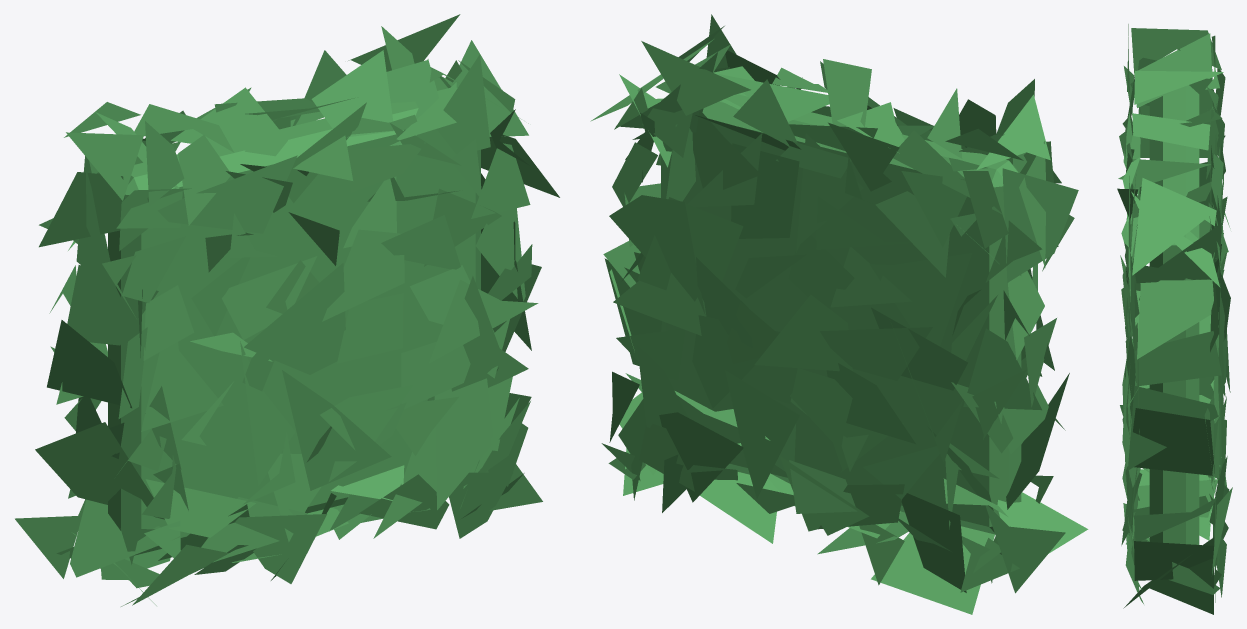
Rendered from HEDGEgrass2.fbx.
3 renders of one model, left to right at view 1: azimuth 30°, elevation 25°; view 2: azimuth 150°, elevation 25°; view 3: azimuth 270°, elevation 25°, orthographic. The views are drawn at different scales.
Visible parts, largest first — view 1: Cube.008, Cube.004; view 2: Cube.008, Cube.004; view 3: Cube.008, Cube.004.
Boxes of the visible parts, x1=… form: Cube.008: x1=15, y1=14, x2=559, y2=606; Cube.004: x1=108, y1=88, x2=480, y2=555; Cube.008: x1=590, y1=14, x2=1088, y2=614; Cube.004: x1=661, y1=94, x2=1021, y2=534; Cube.008: x1=1117, y1=24, x2=1232, y2=614; Cube.004: x1=1149, y1=85, x2=1199, y2=544.
Bounding box in the file's own units: 386 × 387 × 86.82.
